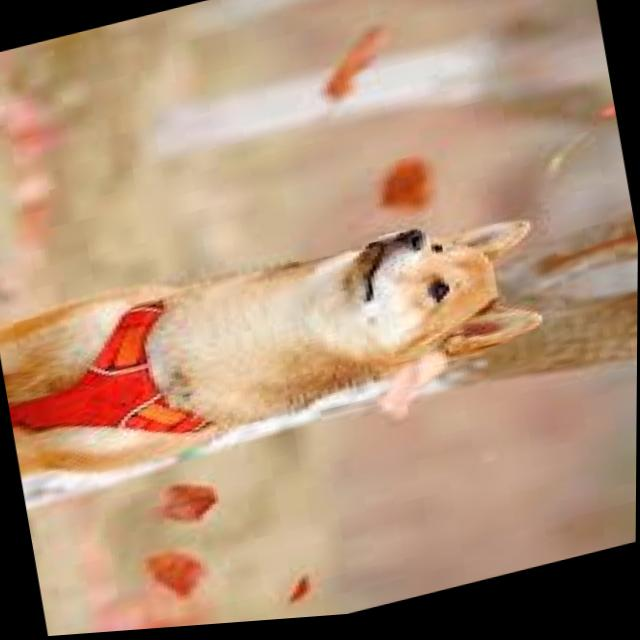dog: (1, 194, 555, 497)
